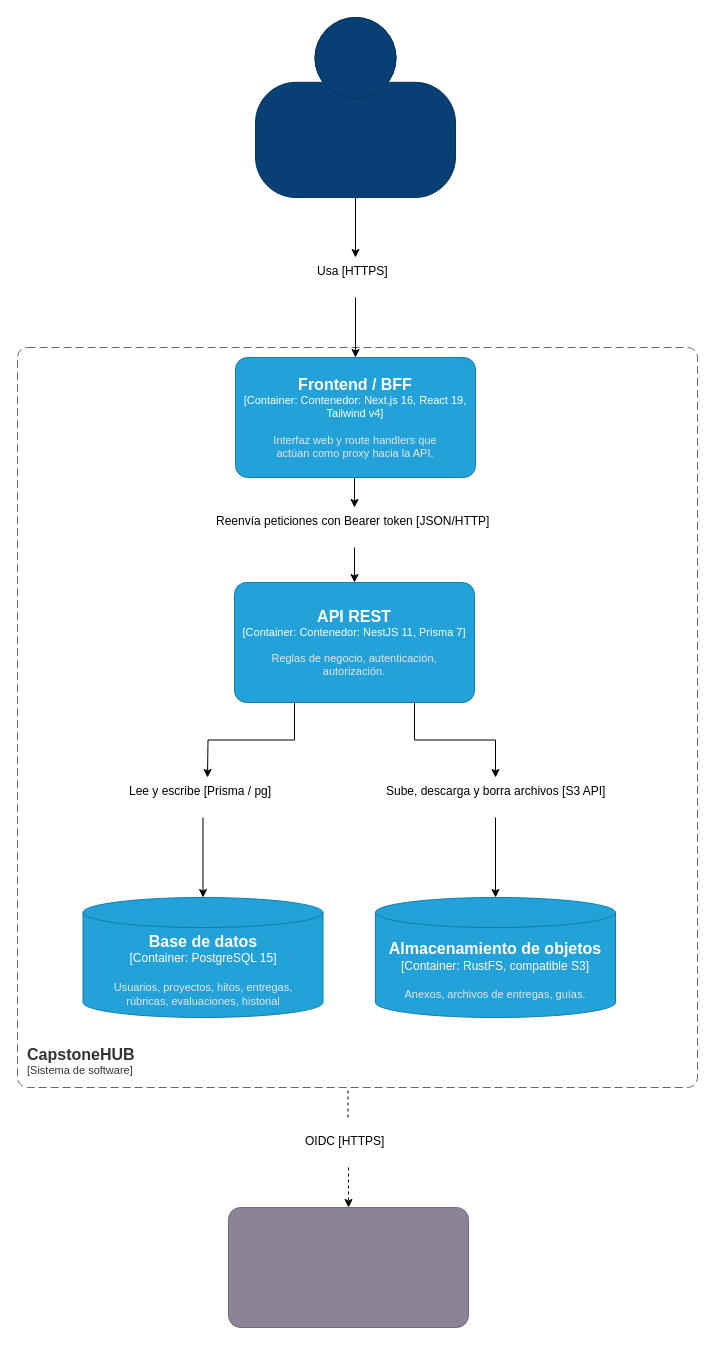
Image size: 715x1345. Some labels were removed from this diagram. The shapes that lost their labels are listed below. From the top down, each one's centre as x and y in pixels, then its label:
At [355,107]: "Usuarios [persona] Admin, directivo, docente, evaluador, proponente, estudiante".
At [348,1267]: "Microsoft Entra ID [Sistema externo - planificado]".
